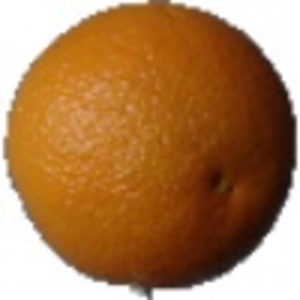laranja: (2, 1, 297, 296)
